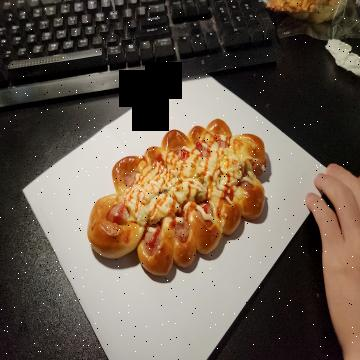pizza_bread: (90, 120, 268, 275)
